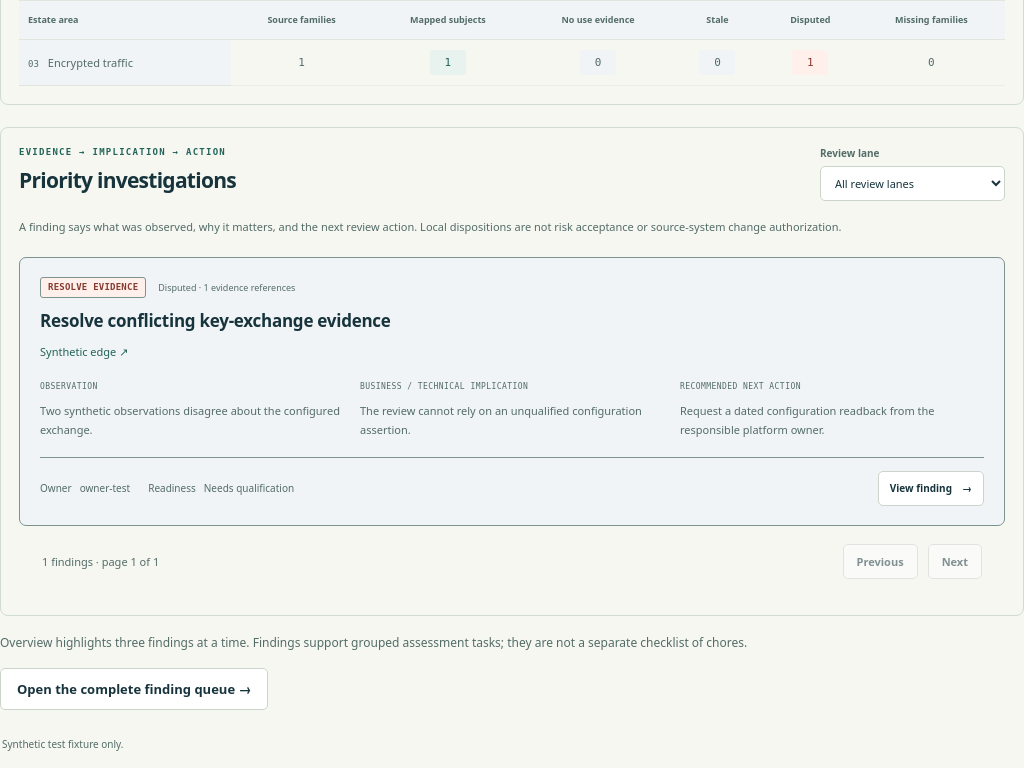
Test: analytical workspace › prepares an information-request draft without changing operation, revision, CSRF or idempotency binding
(page scrolled)
Step 1. Click the button "View finding →" → (931,489), box [878, 471, 984, 506]
(page scrolled)
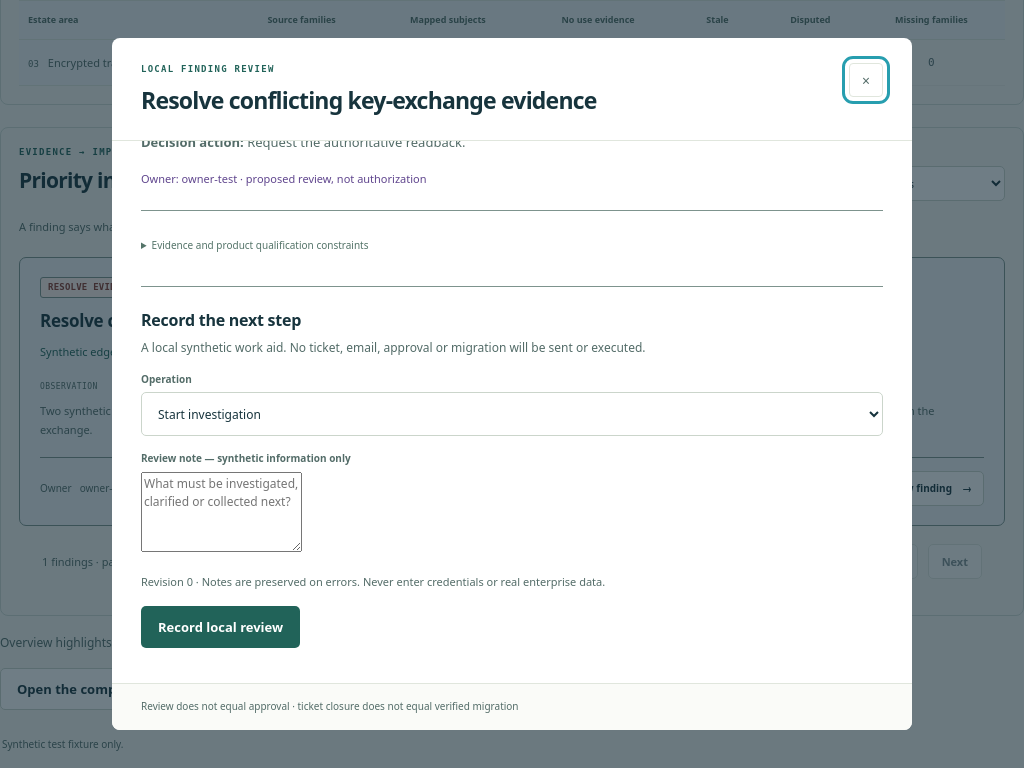
Step 2. Select "Prepare information request draft" in the dropdown labelled "Operation" → (512,414), box [141, 392, 883, 436]
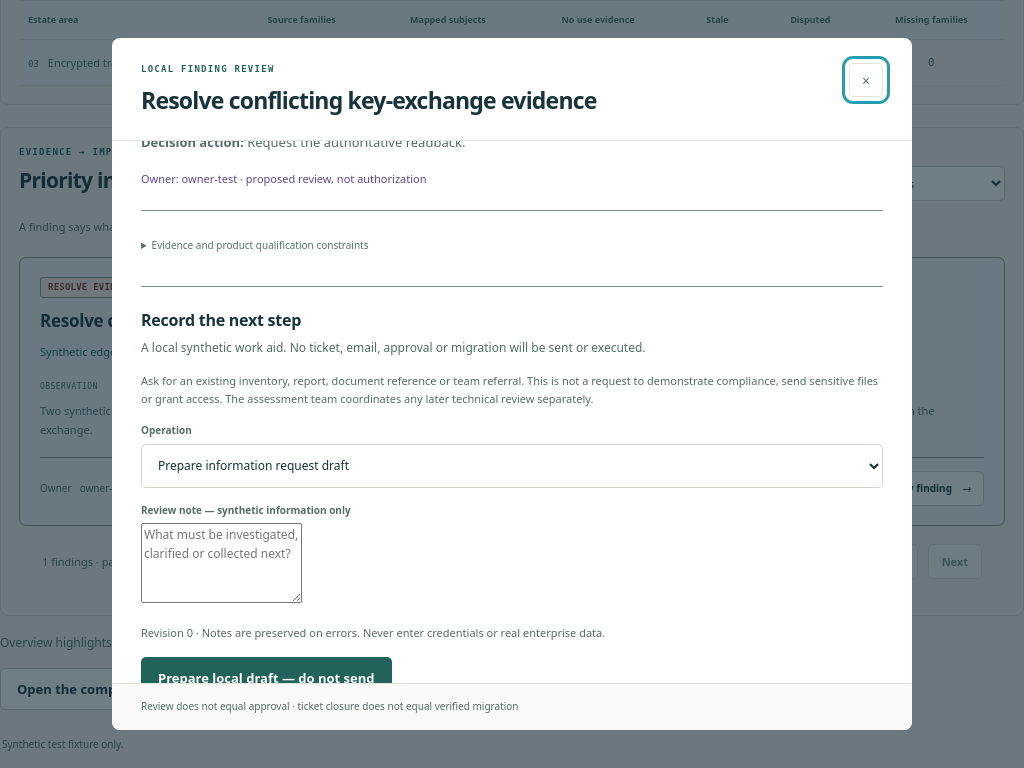
Check: the text "This is not a request to demonstrate compliance" shows "The assessment team coordinates any later technical review separately.", box [141, 373, 878, 406]
Step 3. Type "Confirm the authoritative configuration source." into the text box labelled "Review note — synthetic information only" → (222,563), box [141, 523, 302, 603]
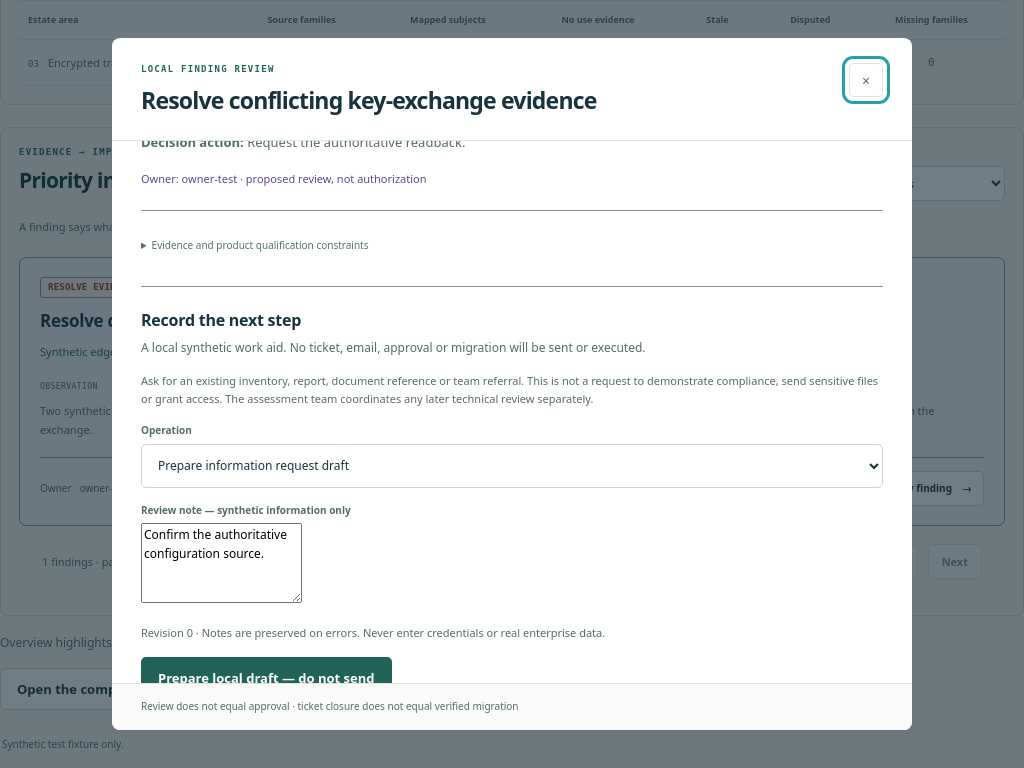
Step 4. Click the button "Prepare local draft — do not send" → (266,678), box [141, 657, 392, 699]
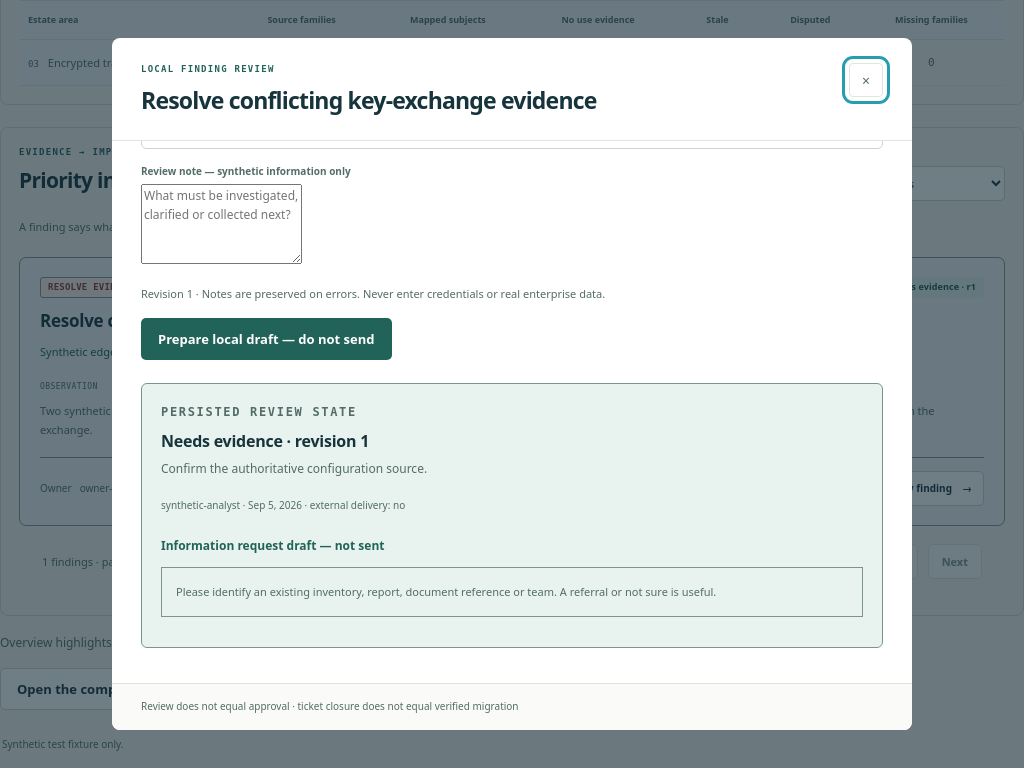
Check: the heading "Information request draft — not sent" is shown, box [161, 538, 384, 554]
Check: the text "Please identify an existing inventory, report, document reference or team. A referral or not sure is useful." is shown, box [176, 584, 716, 599]
